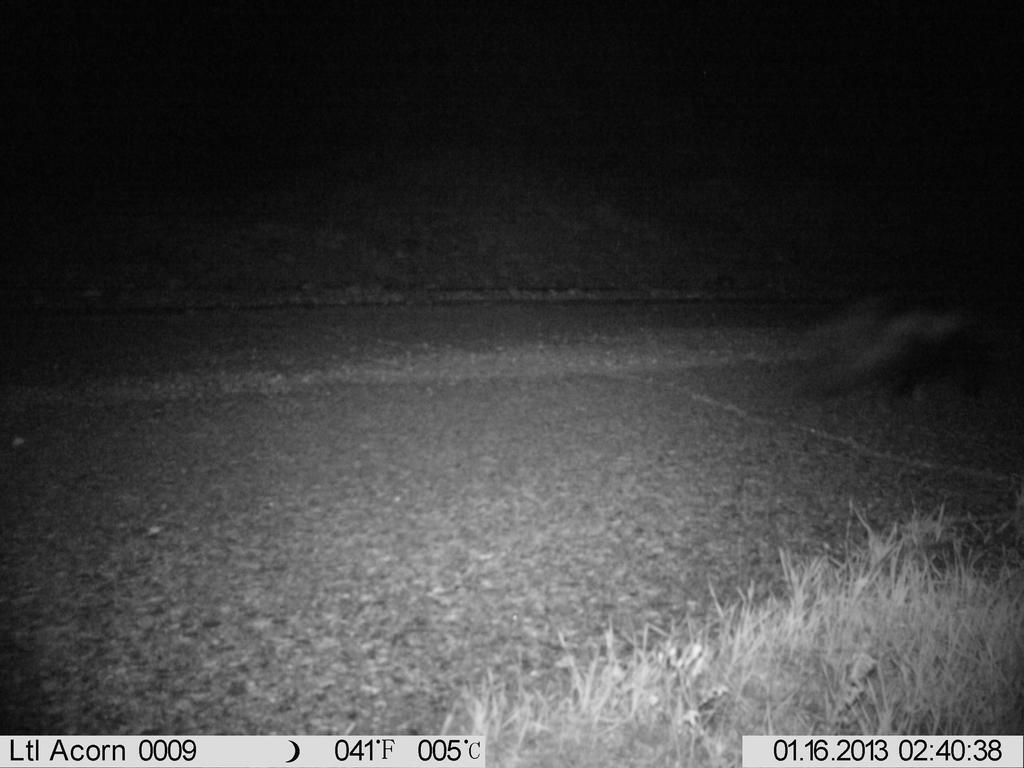skunk: (816, 290, 1019, 411)
